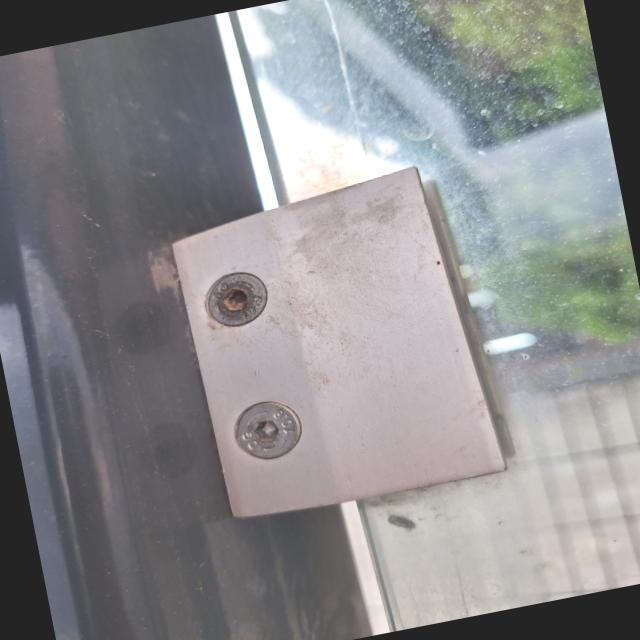Hex Socket Allen: (217, 396, 310, 468), (195, 268, 278, 330)
